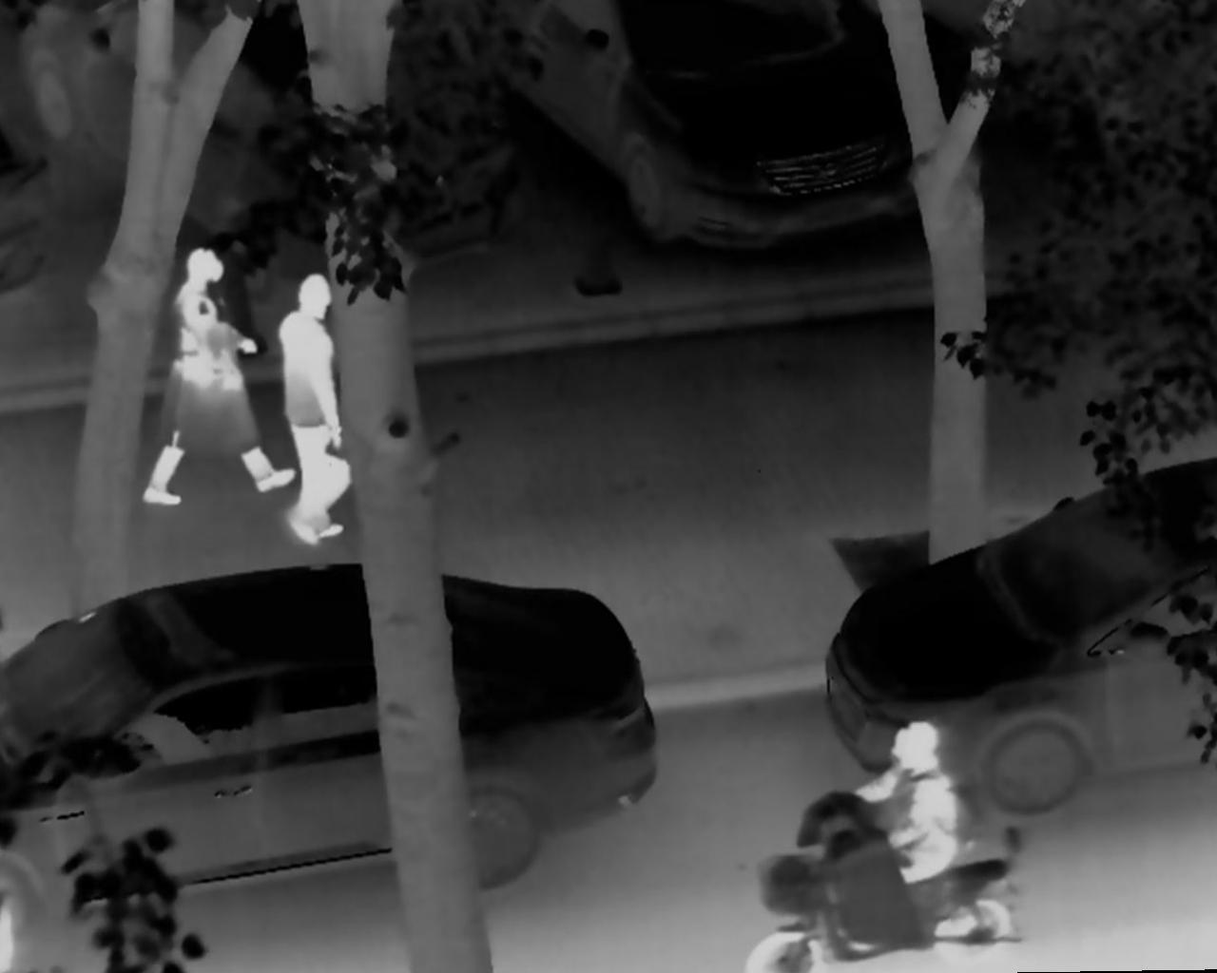person: (142, 242, 295, 509), (265, 272, 352, 553), (849, 697, 960, 900)
